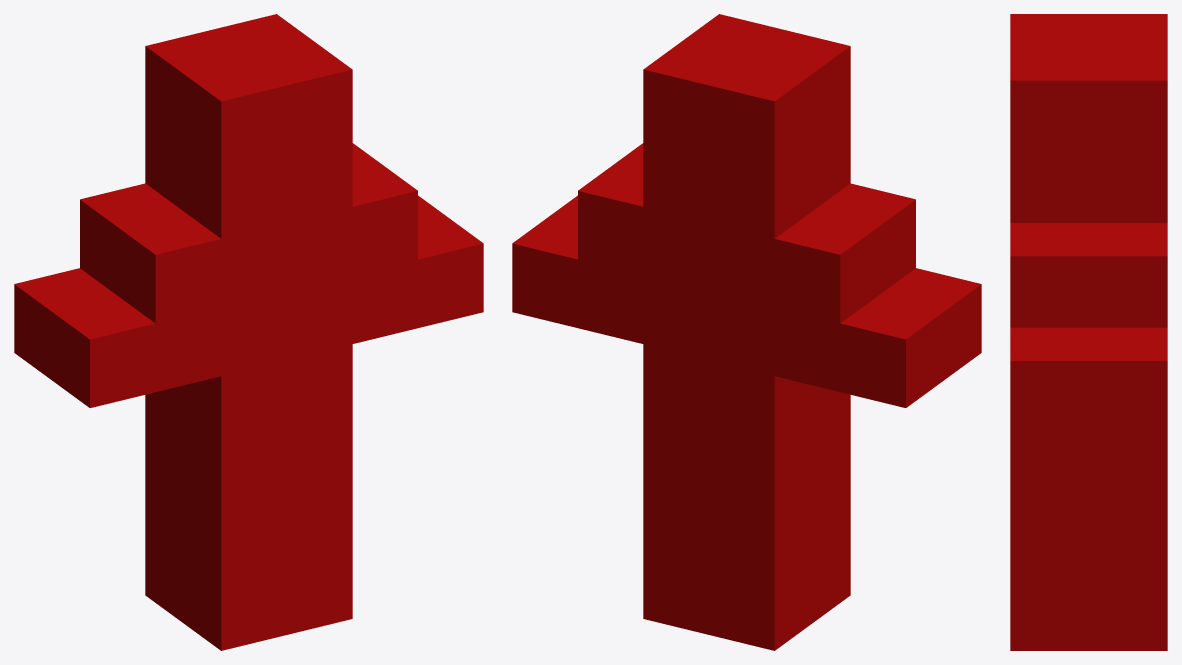
Rendered from AtkUp.obj.
3 views of the same model, side by side, from view 1: azimuth 30°, elevation 25°; view 2: azimuth 150°, elevation 25°; view 3: azimuth 270°, elevation 25° (orthographic). The views are drawn at different scales.
Size of the model in its own units: 0.6 by 0.8 by 0.2.
